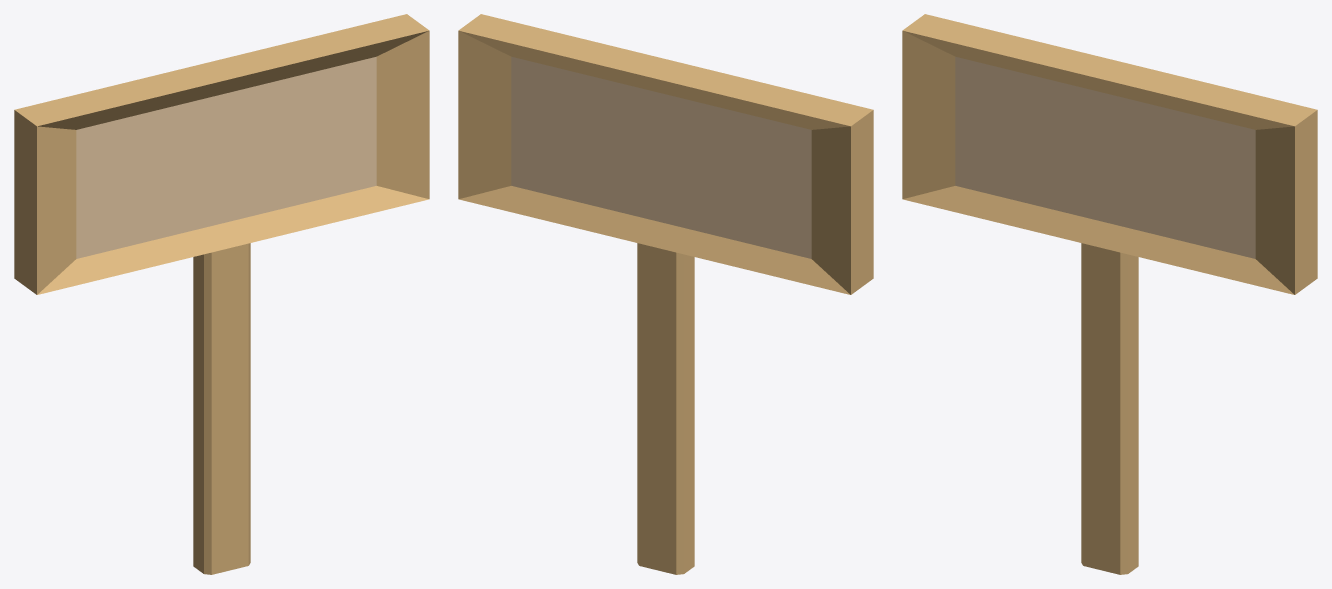
The model's file is sign.glb.
The picture shows the model from 3 angles, left to right: view 1: azimuth 30°, elevation 25°; view 2: azimuth 150°, elevation 25°; view 3: azimuth 330°, elevation 25°; orthographic projection.
Parts seen in each view (by area): view 1: sign; view 2: sign; view 3: sign.
Boxes of the visible parts, box(x1,y1,x2,y2) form: sign: box(14, 14, 429, 574); sign: box(458, 14, 873, 574); sign: box(902, 14, 1317, 574).
Bounding box in the file's own units: 0.95 × 1.14 × 0.0951.
1 material, 1 textured.
